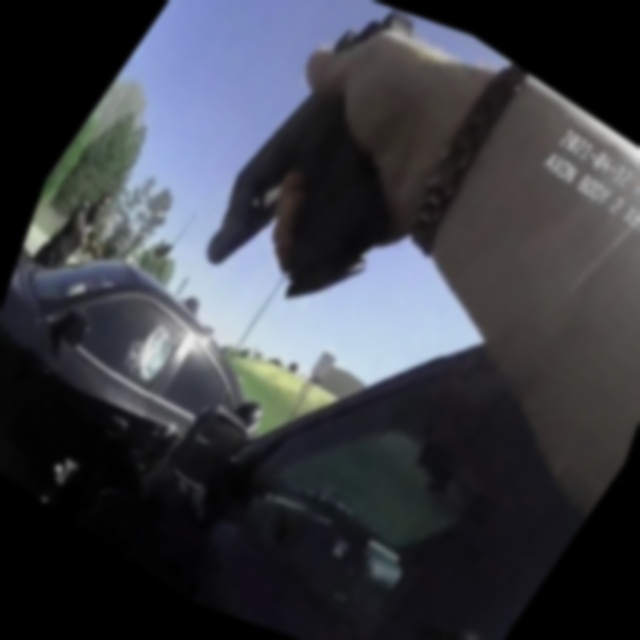gun: (71, 230, 106, 266)
